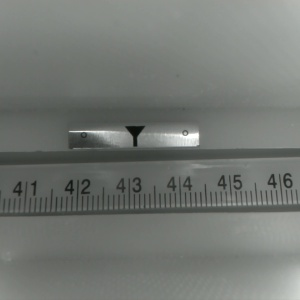2: (80, 179, 90, 195)
3: (131, 177, 141, 193)
4: (266, 173, 277, 189), (64, 180, 75, 195), (182, 176, 192, 191), (115, 178, 125, 193), (166, 177, 176, 192), (216, 175, 226, 190), (13, 181, 23, 196)
5: (232, 175, 241, 190)
6: (282, 172, 293, 188)
finger: (123, 126, 145, 147)
